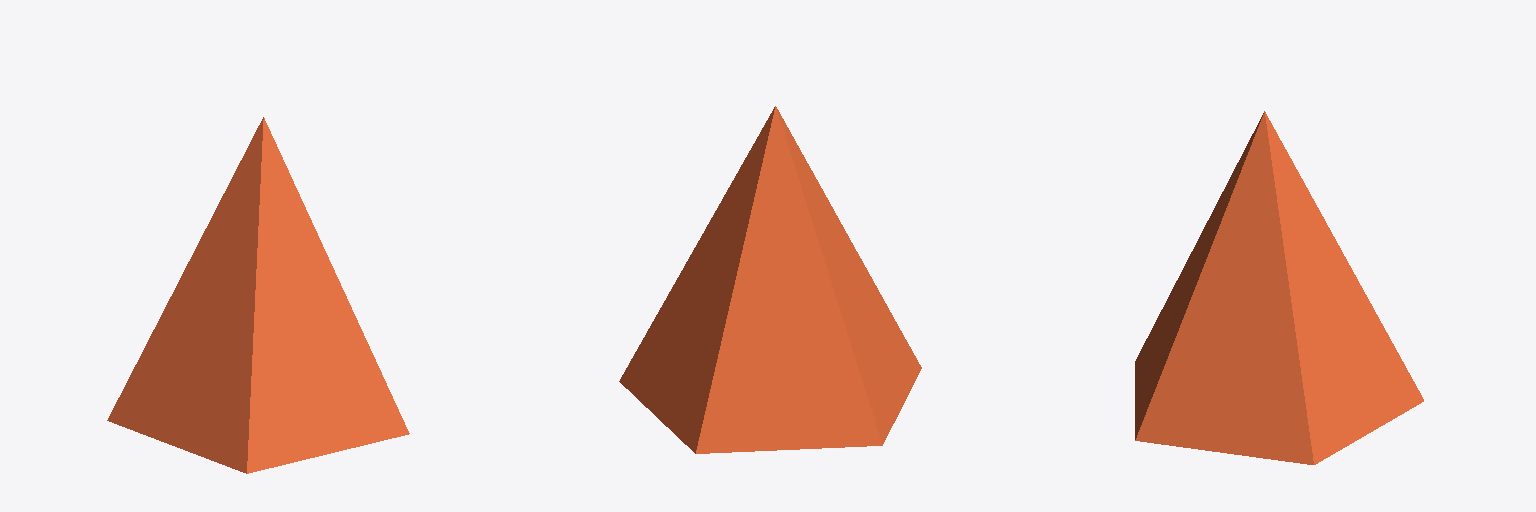
3 views of the same model, side by side, from view 1: azimuth 30°, elevation 25°; view 2: azimuth 150°, elevation 25°; view 3: azimuth 270°, elevation 25° (orthographic).
Parts seen in each view (by area): view 1: ES; view 2: ES; view 3: ES.
Boxes of the visible parts, x1=… form: ES: x1=107, y1=117, x2=409, y2=473; ES: x1=619, y1=106, x2=921, y2=453; ES: x1=1135, y1=111, x2=1423, y2=464.
Bounding box in the file's own units: 1.69 × 1.78 × 1.61.